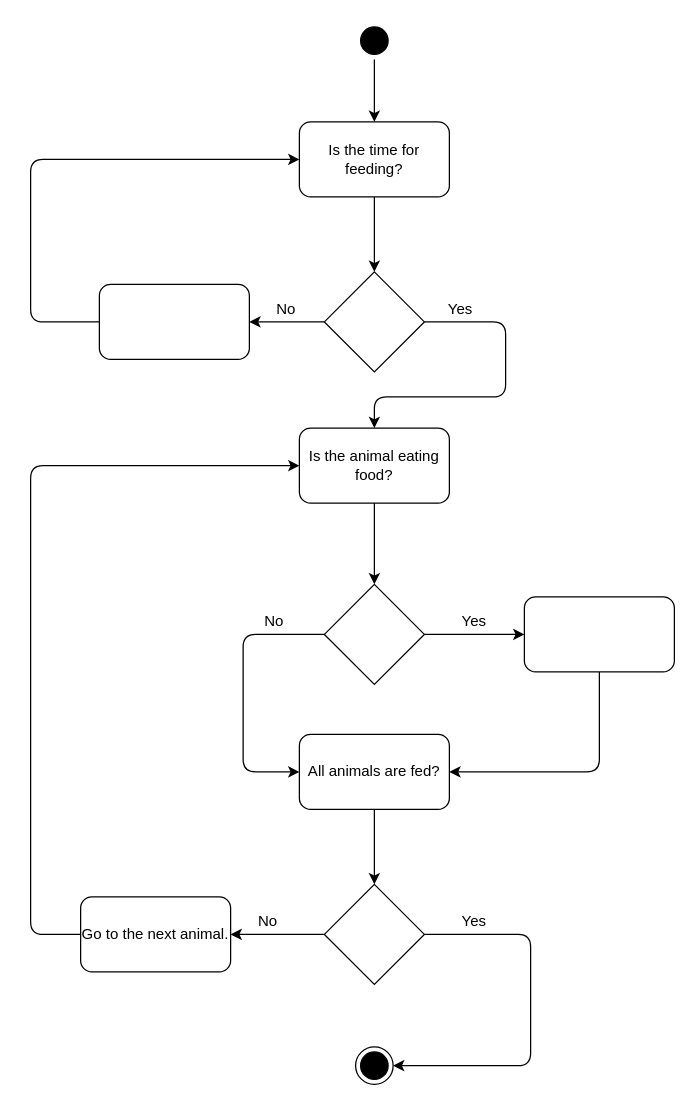
Some shapes in this 696 by 1106 pixel diagram are drawn without their labels. Here are the shapes that lost their labels. From the top down, the centre of each, then its label:
At [173,321]: "Wait.".
At [598,634]: "Feeding.".
